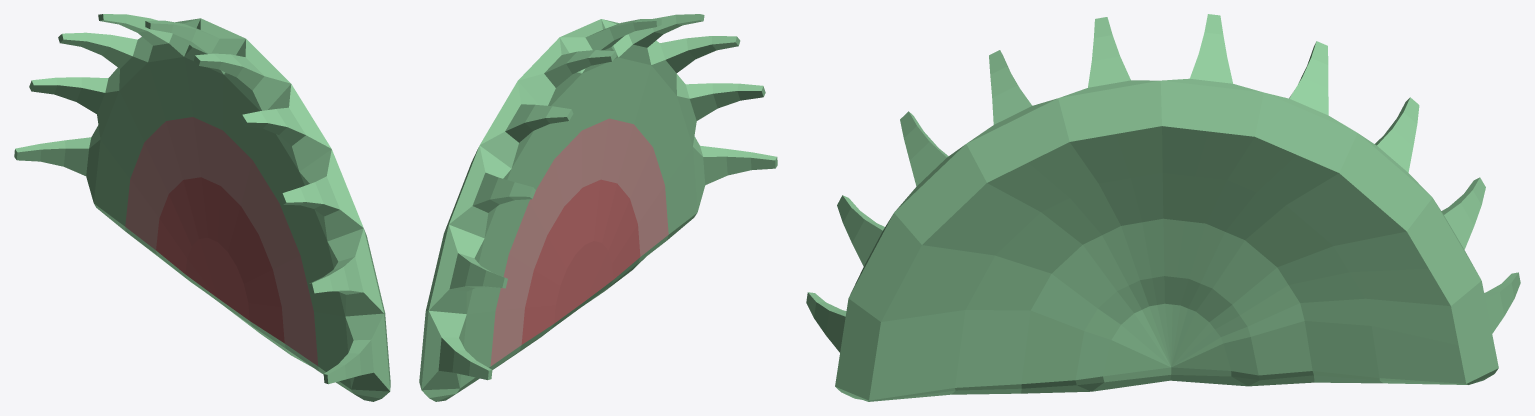
Rendered from stm_env_VFT_Mouthpiece-001.fbx.
3 renders of one model, left to right at view 1: azimuth 30°, elevation 25°; view 2: azimuth 150°, elevation 25°; view 3: azimuth 270°, elevation 25°, orthographic. The views are drawn at different scales.
Parts seen in each view (by area): view 1: stm_env_VFT_Mouthpiece_001; view 2: stm_env_VFT_Mouthpiece_001; view 3: stm_env_VFT_Mouthpiece_001.
Boxes of the visible parts, left/top/right/bottom form: stm_env_VFT_Mouthpiece_001: left=14, top=14, right=390, bottom=401; stm_env_VFT_Mouthpiece_001: left=419, top=14, right=777, bottom=401; stm_env_VFT_Mouthpiece_001: left=806, top=14, right=1520, bottom=401.
Bounding box in the file's own units: 72.15 × 195 × 366.
